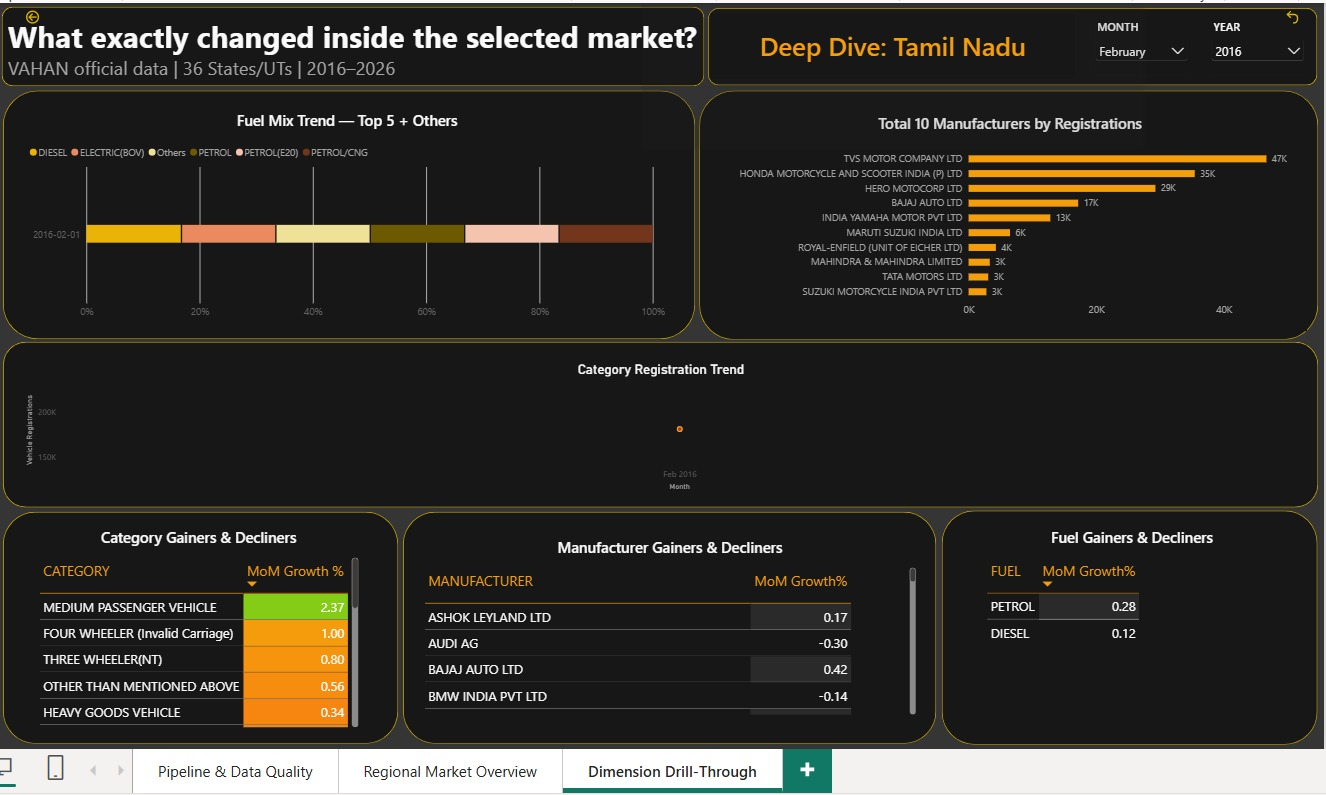

The dashboard page shown, as its layout file describes it:
{"tool":"powerbi","page":{"name":"Dimension Drill-Through","canvas":[1920,1080],"ordinal":2},"visuals":[{"type":"shape","box":[6,5,1017,115],"z":0},{"type":"shape","box":[1027,8,882,112],"z":1000},{"type":"shape","box":[7,127,1002,360],"z":2000},{"type":"shape","box":[1367,734,544,339],"z":3000},{"type":"shape","box":[8,736,572,336],"z":4000},{"type":"shape","box":[587,736,772,336],"z":5000},{"type":"shape","box":[1016,127,896,361],"z":6000},{"type":"shape","box":[8,490,1904,240],"z":7000},{"type":"hundredPercentStackedBarChart","title":"Fuel Mix Trend — Top 5 + Others","fields":{"Category":["DIM_DATE.PERIOD"],"Series":["DIM_FUEL.Fuel Group"],"Y":["DAX_Measures.Fuel Share %"]},"box":[29,141,953,336],"z":8000},{"type":"areaChart","title":"Category Registration Trend","fields":{"Category":["DIM_DATE.DATE_KEY"],"Y":["DAX_Measures.Total Category Registrations"]},"box":[24,504,1872,216],"z":9000},{"type":"clusteredBarChart","title":"Total 10 Manufacturers by Registrations","fields":{"Category":["DIM_MANUFACTURER.MANUFACTURER_NAME"],"Y":["DAX_Measures.Total Manufacturer Registrations"]},"box":[1035,144,860,330],"z":10000},{"type":"tableEx","title":"Category Gainers & Decliners","fields":{"Values":["DIM_CATEGORY.CATEGORY_NAME","DAX_Measures.Category MoM Growth %"]},"box":[44,744,494,321],"z":11000},{"type":"slicer","title":"STATE","fields":{"Values":["DIM_DATE.MONTH_NAME"]},"box":[1584,24,144,80],"z":12000},{"type":"slicer","title":"STATE","fields":{"Values":["DIM_DATE.YEAR"]},"box":[1752,24,144,80],"z":13000},{"type":"tableEx","title":"Manufacturer Gainers & Decliners","fields":{"Values":["DIM_MANUFACTURER.MANUFACTURER_NAME","DAX_Measures.Manufacturer MoM Growth2 %"]},"box":[600,759,744,288],"z":14000},{"type":"tableEx","title":"Fuel Gainers & Decliners","fields":{"Values":["DIM_FUEL.FUEL_NAME","DAX_Measures.Fuel MoM Growth2 %"]},"box":[1416,744,453,321],"z":15000},{"type":"card","fields":{"Values":["DAX_Measures.Drill-through Title"]},"box":[1032,15,528,96],"z":16000},{"type":"actionButton","box":[0,0,100,40],"z":17000},{"type":"textbox","box":[15,0,1056,144],"z":18000},{"type":"actionButton","box":[1824,0,100,40],"z":19000}]}

Visuals, with their boxes on the page's 1920x1080 design canvas (x1, y1, x2, y2). These are canvas units, not pixel positions in the 1326x795 screenshot, which may show the page scaled, cropped or inside an application window:
shape: bbox=[6, 5, 1023, 120]
shape: bbox=[1027, 8, 1909, 120]
shape: bbox=[7, 127, 1009, 487]
shape: bbox=[1367, 734, 1911, 1073]
shape: bbox=[8, 736, 580, 1072]
shape: bbox=[587, 736, 1359, 1072]
shape: bbox=[1016, 127, 1912, 488]
shape: bbox=[8, 490, 1912, 730]
"Fuel Mix Trend — Top 5 + Others" hundredPercentStackedBarChart: bbox=[29, 141, 982, 477]
"Category Registration Trend" areaChart: bbox=[24, 504, 1896, 720]
"Total 10 Manufacturers by Registrations" clusteredBarChart: bbox=[1035, 144, 1895, 474]
"Category Gainers & Decliners" tableEx: bbox=[44, 744, 538, 1065]
"STATE" slicer: bbox=[1584, 24, 1728, 104]
"STATE" slicer: bbox=[1752, 24, 1896, 104]
"Manufacturer Gainers & Decliners" tableEx: bbox=[600, 759, 1344, 1047]
"Fuel Gainers & Decliners" tableEx: bbox=[1416, 744, 1869, 1065]
card - DAX_Measures.Drill-through Title: bbox=[1032, 15, 1560, 111]
actionButton: bbox=[0, 0, 100, 40]
textbox: bbox=[15, 0, 1071, 144]
actionButton: bbox=[1824, 0, 1924, 40]
